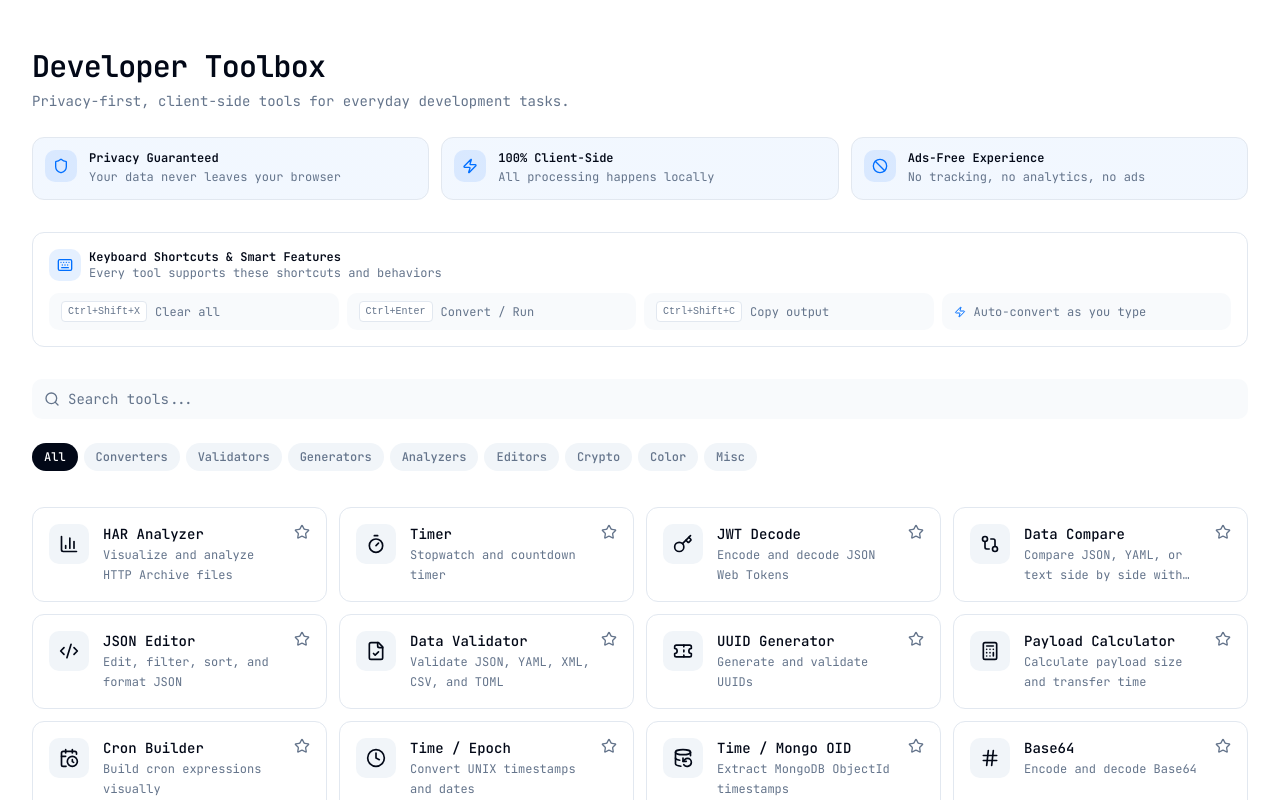
Scenario: HomePage › category filtering › shows all tools when All is selected
Click the button "Crypto" at (598, 457), box [565,443,632,471]
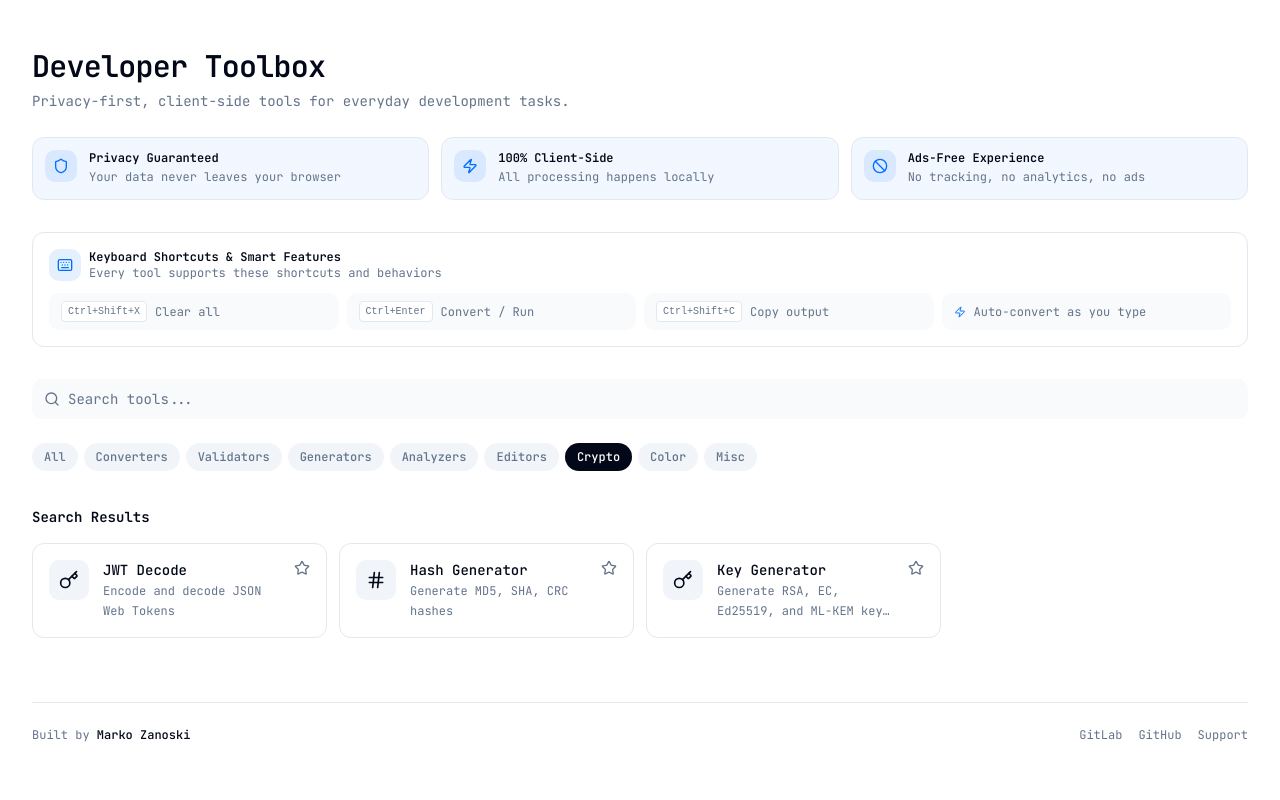
Click the button "All" at (55, 457), box [32,443,78,471]
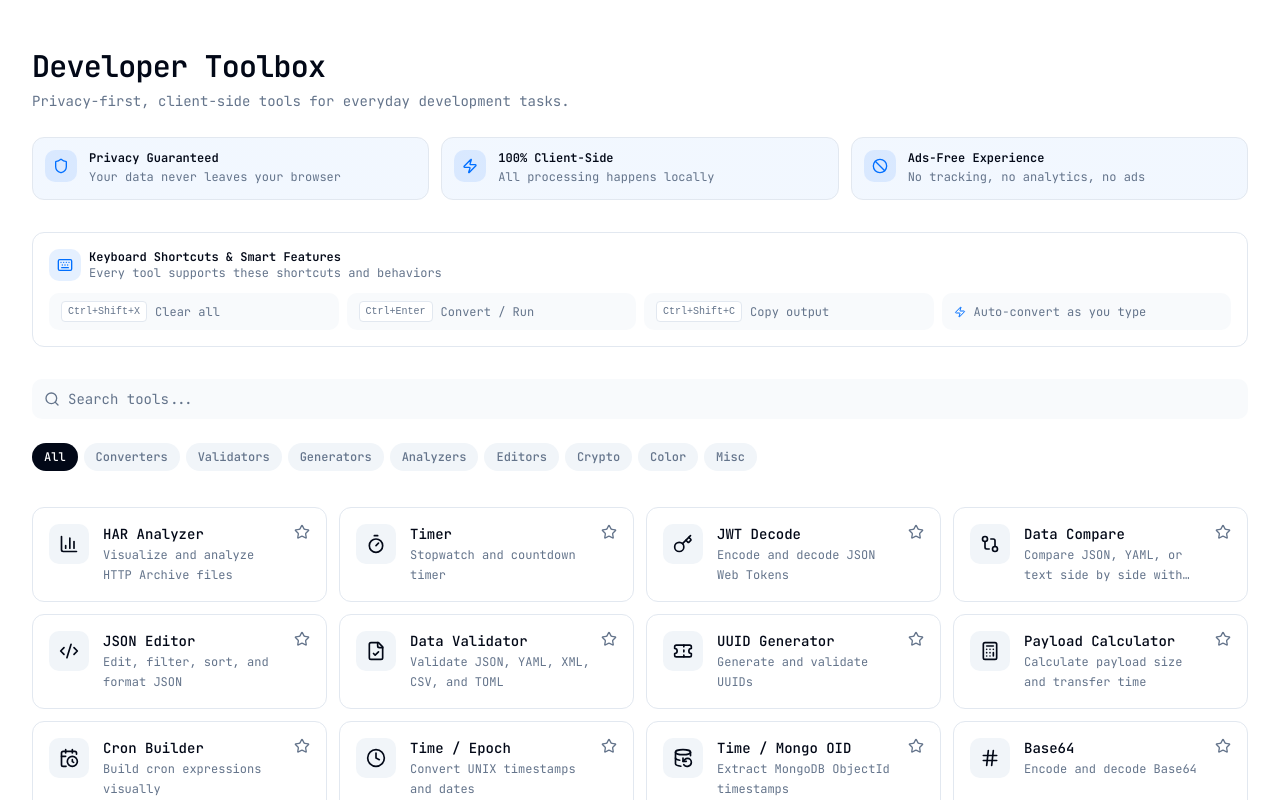
expect the text "JWT Decode" is shown: met, box [717,524,801,544]
expect the text "Timer" is shown: met, box [410,524,452,544]
expect the text "Base64" is shown: met, box [1024,738,1074,758]
